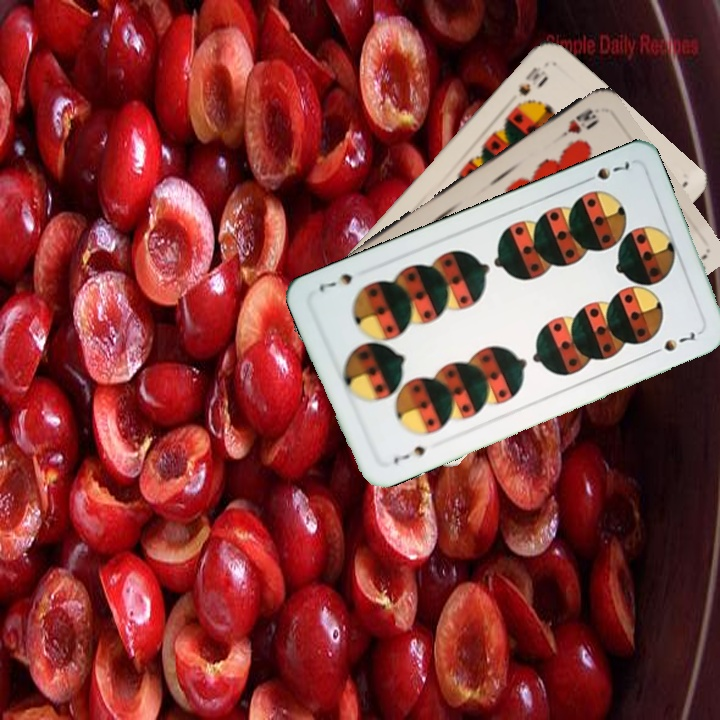H10: (548, 105, 598, 146)
S10: (511, 62, 550, 111)
S7: (577, 157, 633, 186), (389, 442, 428, 467)
